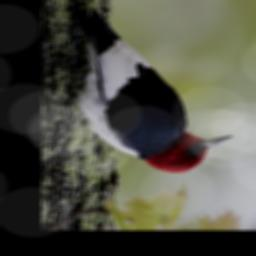Woodpecker: (58, 0, 242, 176)
